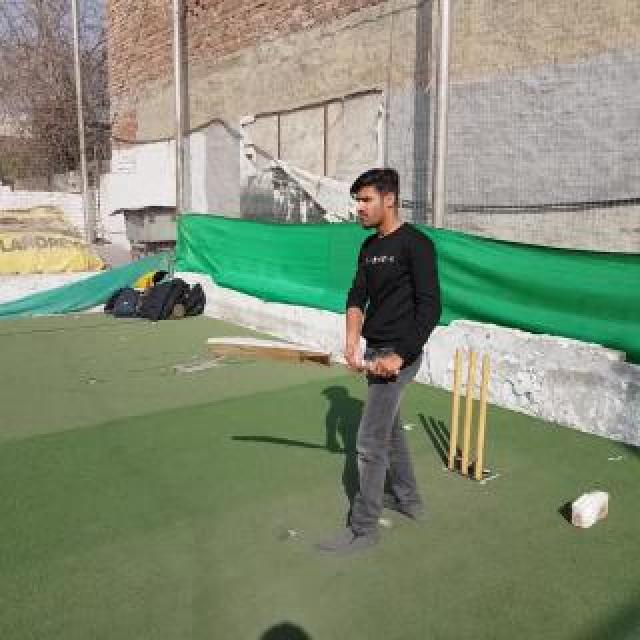bat: (205, 336, 399, 374)
